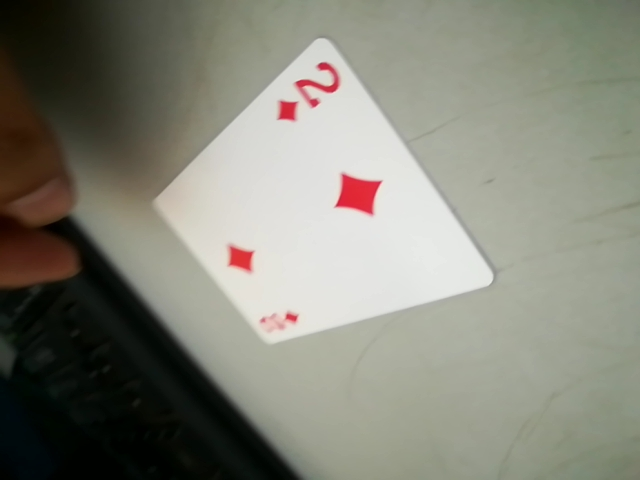fk 2: (266, 50, 348, 126)
